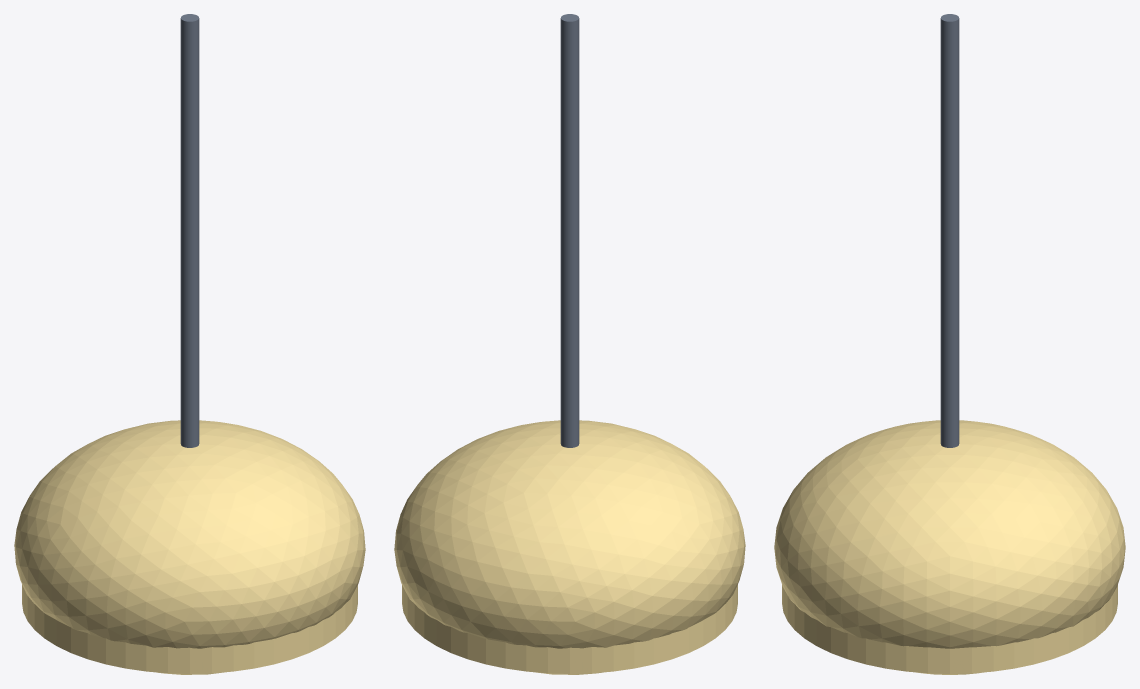
The model's file is pendant-lamp.glb.
3 renders of one model, left to right at view 1: azimuth 30°, elevation 25°; view 2: azimuth 150°, elevation 25°; view 3: azimuth 270°, elevation 25°, orthographic.
Parts seen in each view (by area): view 1: shade, lower, wire; view 2: shade, lower, wire; view 3: shade, lower, wire.
Boxes of the visible parts, x1,y1,x2,y2 form: shade: [14, 420, 365, 674]; lower: [22, 584, 357, 673]; wire: [180, 14, 199, 447]; shade: [394, 420, 745, 674]; lower: [402, 584, 737, 673]; wire: [560, 14, 579, 447]; shade: [774, 420, 1125, 674]; lower: [782, 585, 1117, 673]; wire: [940, 14, 959, 447].
Bounding box in the file's own units: 0.46 × 0.915 × 0.46.
